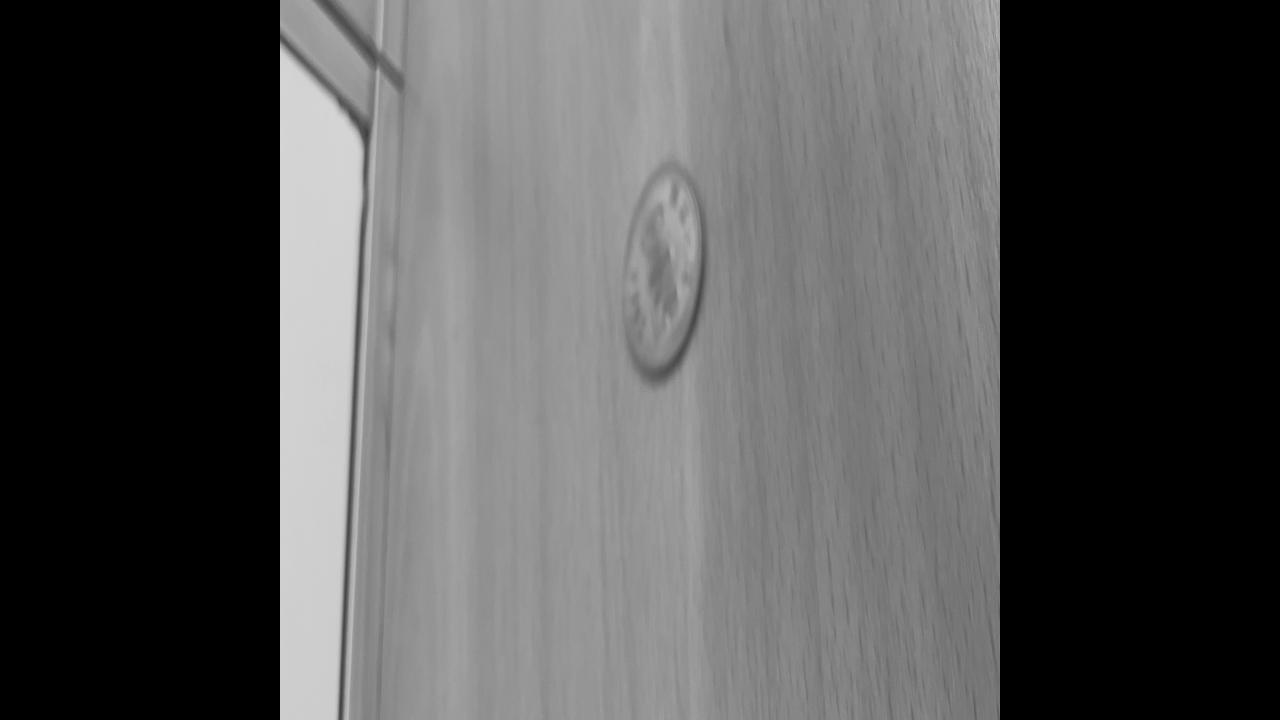coin: (620, 150, 708, 382)
